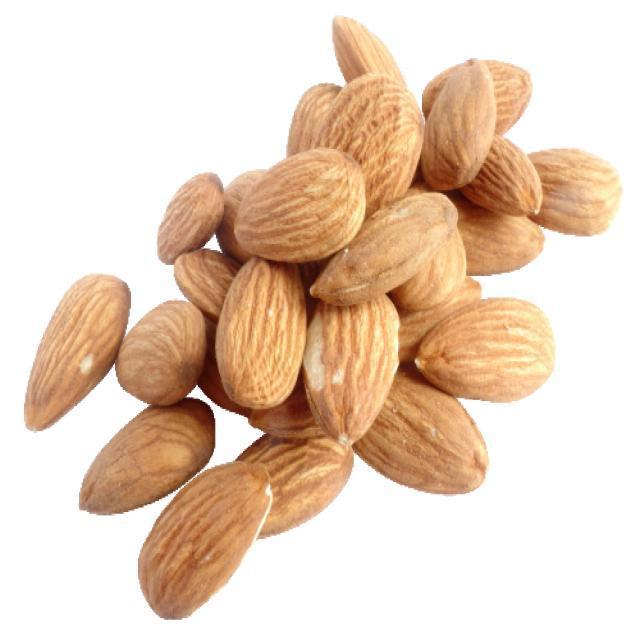almond: (135, 462, 274, 616), (310, 189, 463, 306), (352, 369, 492, 496), (23, 273, 130, 430), (74, 397, 215, 513), (412, 296, 554, 404), (230, 148, 366, 260), (309, 70, 421, 206), (306, 292, 399, 452), (218, 259, 307, 407), (231, 432, 351, 538), (419, 57, 497, 192), (118, 300, 206, 406), (446, 188, 545, 276), (523, 149, 622, 236), (153, 167, 227, 266), (461, 136, 545, 216), (328, 14, 402, 85)
